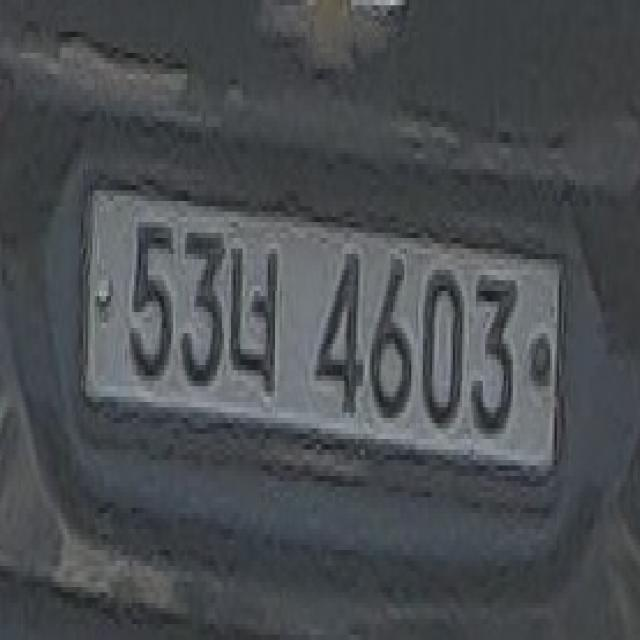0: (423, 259, 471, 439)
3: (180, 206, 231, 408), (472, 270, 518, 450)
4: (319, 254, 370, 428)
5: (130, 217, 180, 386)
6: (363, 244, 427, 428)
license_plate: (79, 170, 573, 518)
neo: (224, 222, 287, 392)
